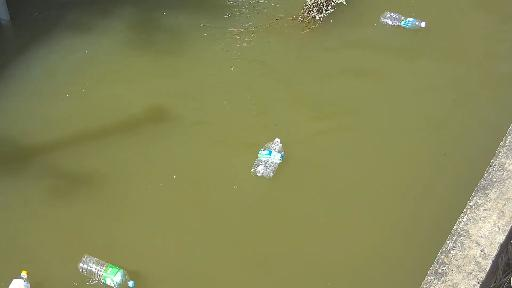plastic: (74, 255, 150, 288), (249, 136, 290, 176), (378, 11, 429, 29), (10, 265, 42, 288)
twig: (282, 0, 351, 31)
